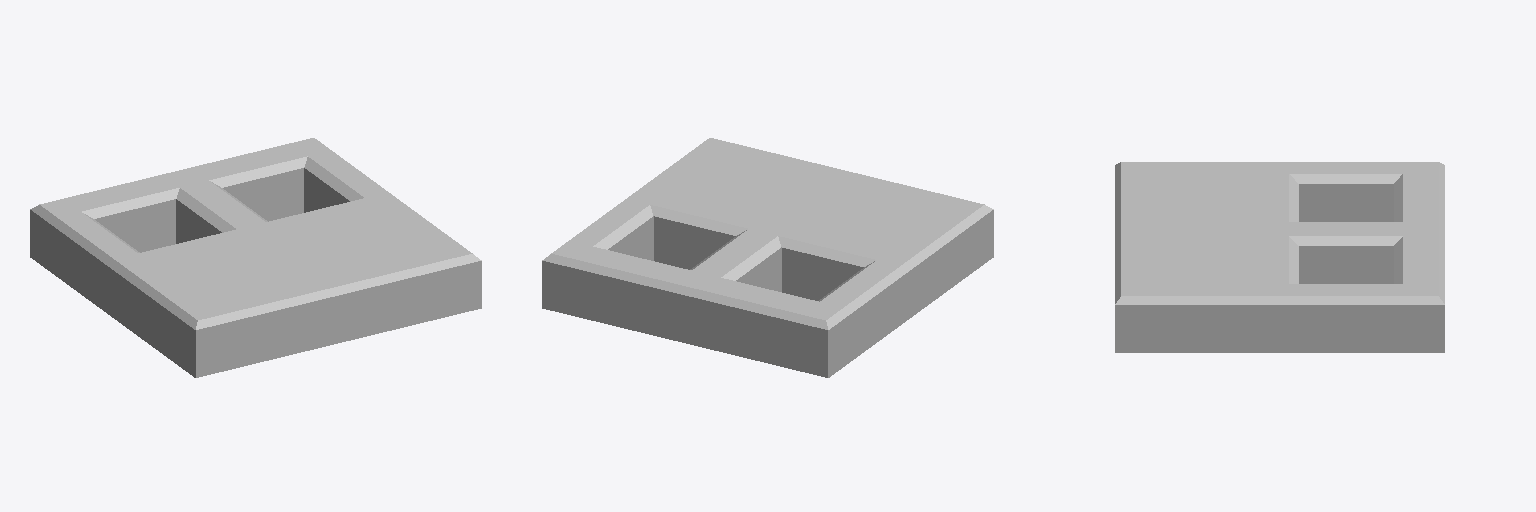
The model's file is Floor_1.obj.
3 views of the same model, side by side, from view 1: azimuth 30°, elevation 25°; view 2: azimuth 150°, elevation 25°; view 3: azimuth 270°, elevation 25° (orthographic).
Visible parts, largest first — view 1: Floor_1:Floor_2; view 2: Floor_1:Floor_2; view 3: Floor_1:Floor_2.
Part boxes in pixels (left/top/right/bottom): Floor_1:Floor_2: left=30, top=138, right=481, bottom=377; Floor_1:Floor_2: left=542, top=138, right=993, bottom=377; Floor_1:Floor_2: left=1115, top=162, right=1444, bottom=352.
Size of the model in its own units: 5 by 0.9 by 5.